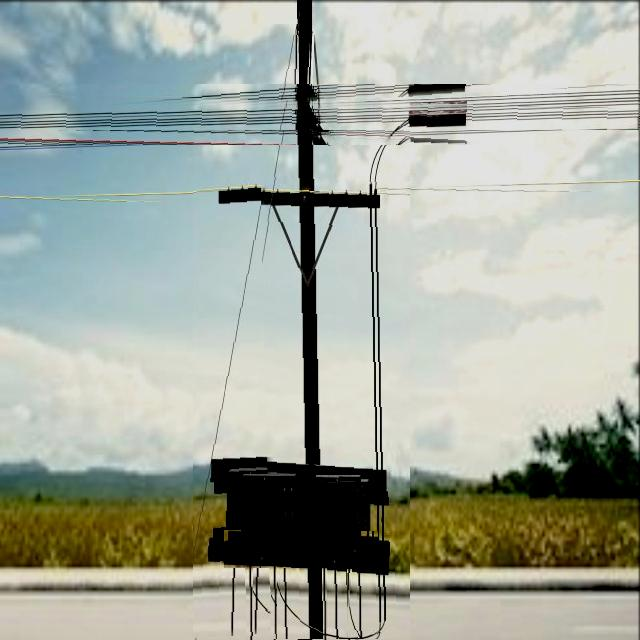crossarm: (224, 531, 378, 568), (225, 462, 379, 498), (224, 189, 380, 209)
pole: (297, 0, 311, 640), (290, 20, 299, 98)
transformer: (243, 474, 287, 544), (317, 475, 361, 544)
wire: (267, 115, 410, 639), (193, 24, 298, 587), (358, 111, 407, 637), (0, 106, 640, 130), (0, 84, 420, 118), (0, 137, 639, 145), (0, 194, 225, 202), (377, 186, 639, 192), (245, 565, 253, 636), (270, 567, 277, 639), (347, 565, 352, 638), (323, 567, 327, 640)
